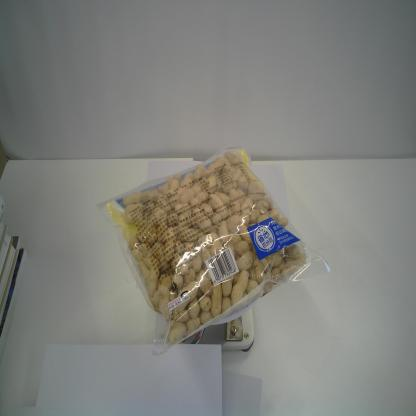Dried Food: (94, 145, 332, 360)
